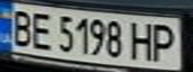1: (69, 15, 90, 54)
5: (51, 12, 75, 53)
8: (103, 17, 127, 59)
9: (87, 16, 109, 56)
B: (3, 7, 36, 47)
E: (27, 8, 57, 52)
H: (124, 19, 160, 62)
P: (148, 20, 184, 63)
